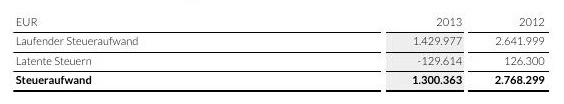table: (0, 0, 564, 104)
